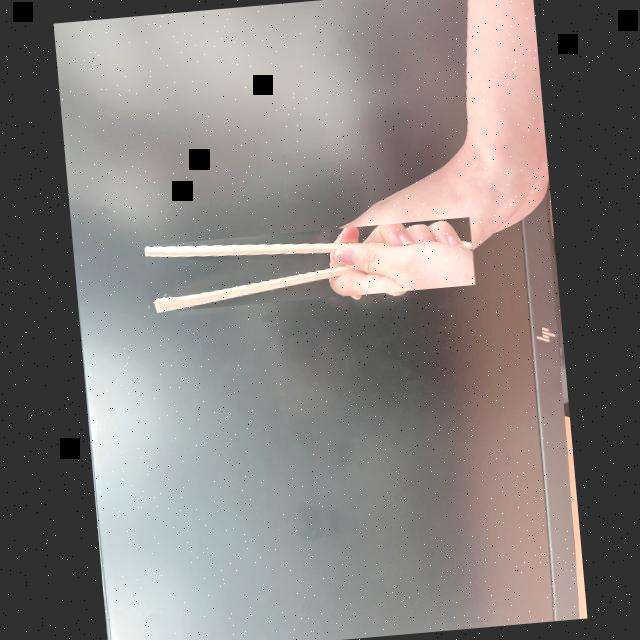stick: (143, 216, 474, 312)
